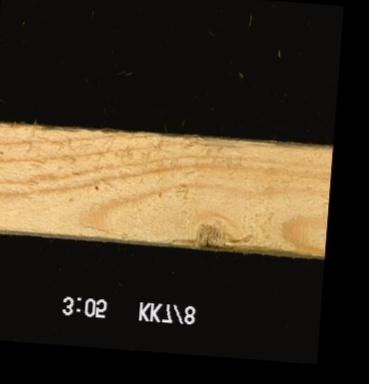edge_knot: (196, 211, 239, 250)
wave: (160, 134, 272, 151)
